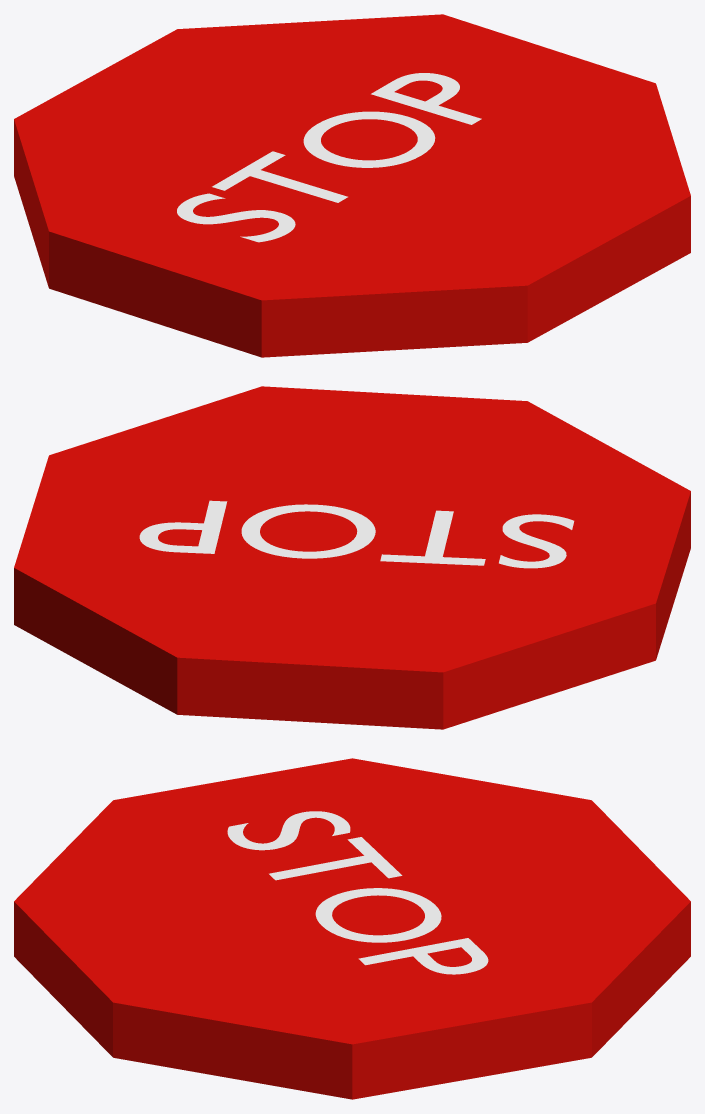
File: stopSign.glb
The picture shows the model from 3 angles, top to bottom: view 1: azimuth 30°, elevation 25°; view 2: azimuth 150°, elevation 25°; view 3: azimuth 270°, elevation 25°; orthographic projection. The views are drawn at different scales.
Parts seen in each view (by area): view 1: Cylinder, Text; view 2: Cylinder, Text; view 3: Cylinder, Text.
Part boxes in pixels (bbox=[...]): Cylinder: bbox=[14, 14, 690, 357]; Text: bbox=[177, 73, 481, 242]; Cylinder: bbox=[14, 386, 690, 729]; Text: bbox=[139, 500, 574, 568]; Cylinder: bbox=[14, 758, 690, 1099]; Text: bbox=[227, 811, 488, 974].
Bounding box in the file's own units: 2 × 0.181 × 2.
